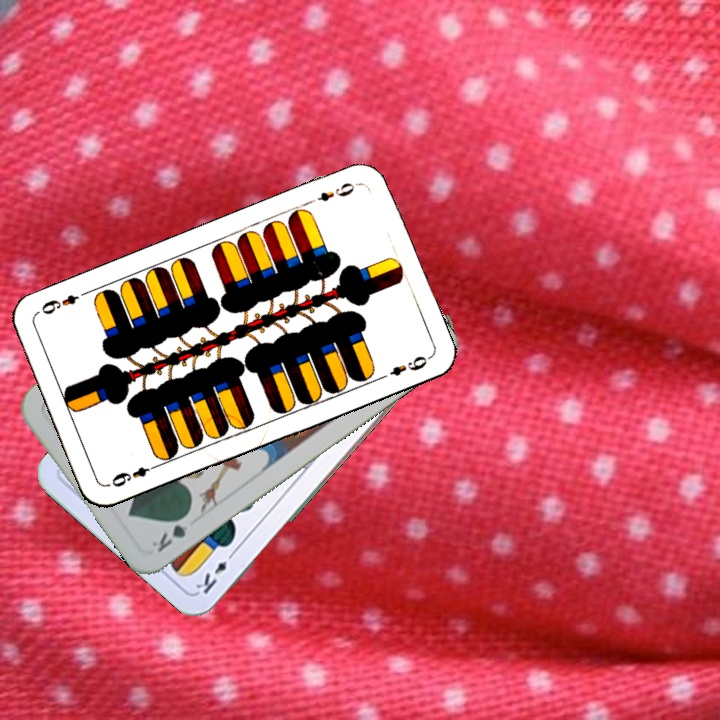E9: (304, 178, 361, 207), (107, 460, 162, 490)
EK: (191, 546, 238, 597)
GK: (147, 508, 195, 556)
